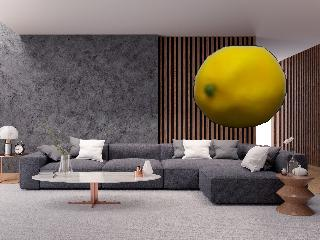lemon: (191, 44, 291, 131)
